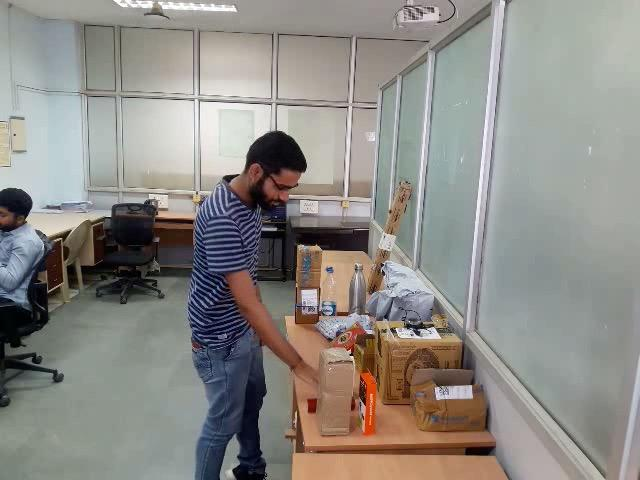Normal: (58, 45, 640, 480)
